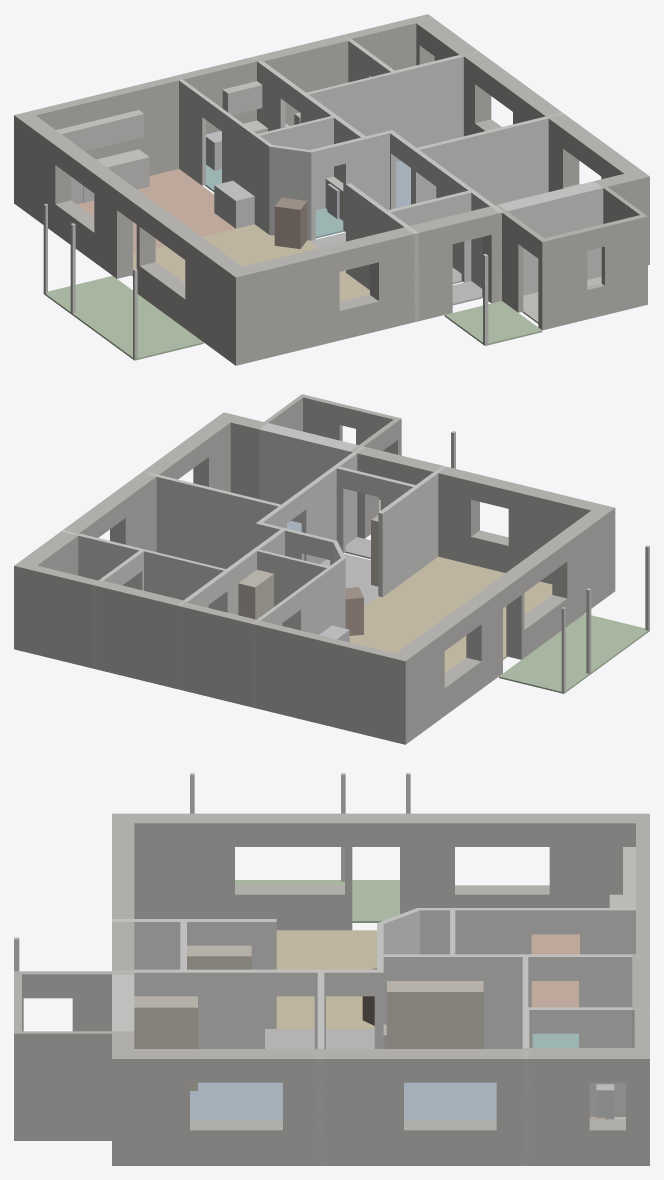
Rendered from PROP_1011.glb.
3 views of the same model, one above another, from view 1: azimuth 30°, elevation 25°; view 2: azimuth 150°, elevation 25°; view 3: azimuth 270°, elevation 25° (orthographic). The views are drawn at different scales.
Parts seen in each view (by area): view 1: L0_wall_F0_W22, L0_wall_F0_W5, L0_wall_F0_W20, L0_wall_F0_W0, L0_wall_F0_W4, L0_wall_F0_W13, L0_wall_F0_W10, L0_floor_F0_R1_0, L0_wall_F0_W16, L0_wall_F0_W24, L0_wall_F0_W1, L0_floor_F0_R3_0 (+30 smaller); view 2: L0_wall_F0_W0, L0_wall_F0_W5, L0_wall_F0_W22, L0_floor_F0_R3_0, L0_wall_F0_W1, L0_wall_F0_W13, L0_wall_F0_W4, L0_wall_F0_W2, L0_wall_F0_W14, L0_floor_F0_R1_0, L0_wall_F0_W24, L0_wall_F0_W8 (+18 smaller); view 3: L0_wall_F0_W4, L0_wall_F0_W5, L0_wall_F0_W3, L0_wall_F0_W8, L0_wall_F0_W6, L0_wall_F0_W19, L0_wall_F0_W10, L0_floor_F0_R3_0, L0_wall_F0_W14, L0_wall_F0_W17, L0_wall_F0_W21, L0_floor_F0_R5_0 (+23 smaller).
Boxes of the visible parts, <box> form: L0_wall_F0_W22: <box>236,204,501,365</box>; L0_wall_F0_W5: <box>14,115,242,365</box>; L0_wall_F0_W20: <box>542,215,647,330</box>; L0_wall_F0_W0: <box>15,57,256,175</box>; L0_wall_F0_W4: <box>464,52,649,191</box>; L0_wall_F0_W13: <box>412,112,564,205</box>; L0_wall_F0_W10: <box>177,76,271,234</box>; L0_floor_F0_R1_0: <box>43,275,203,360</box>; L0_wall_F0_W16: <box>393,50,479,160</box>; L0_wall_F0_W24: <box>498,181,603,295</box>; L0_wall_F0_W1: <box>252,34,351,125</box>; L0_floor_F0_R3_0: <box>132,224,369,301</box>; L0_wall_F0_W0: <box>181,602,405,744</box>; L0_wall_F0_W5: <box>396,508,615,744</box>; L0_wall_F0_W22: <box>350,447,614,584</box>; L0_floor_F0_R3_0: <box>349,556,552,672</box>; L0_wall_F0_W1: <box>92,580,187,689</box>; L0_wall_F0_W13: <box>144,471,285,568</box>; L0_wall_F0_W4: <box>64,412,230,551</box>; L0_wall_F0_W2: <box>14,565,97,668</box>; L0_wall_F0_W14: <box>378,466,446,597</box>; L0_floor_F0_R1_0: <box>499,613,649,693</box>; L0_wall_F0_W24: <box>259,423,358,523</box>; L0_wall_F0_W8: <box>256,446,365,564</box>; L0_wall_F0_W4: <box>112,1049,522,1165</box>; L0_wall_F0_W5: <box>112,813,649,930</box>; L0_wall_F0_W3: <box>522,1048,649,1165</box>; L0_wall_F0_W8: <box>112,969,383,1048</box>; L0_wall_F0_W6: <box>378,954,646,1048</box>; L0_wall_F0_W19: <box>14,1031,131,1140</box>; L0_wall_F0_W10: <box>417,908,635,1007</box>; L0_floor_F0_R3_0: <box>276,930,376,1028</box>; L0_wall_F0_W14: <box>112,919,276,1028</box>; L0_wall_F0_W17: <box>524,1007,648,1116</box>; L0_wall_F0_W21: <box>14,971,132,1031</box>; L0_floor_F0_R5_0: <box>404,1082,496,1120</box>.
Size of the model in its own units: 15.45 by 2.75 by 14.53.
